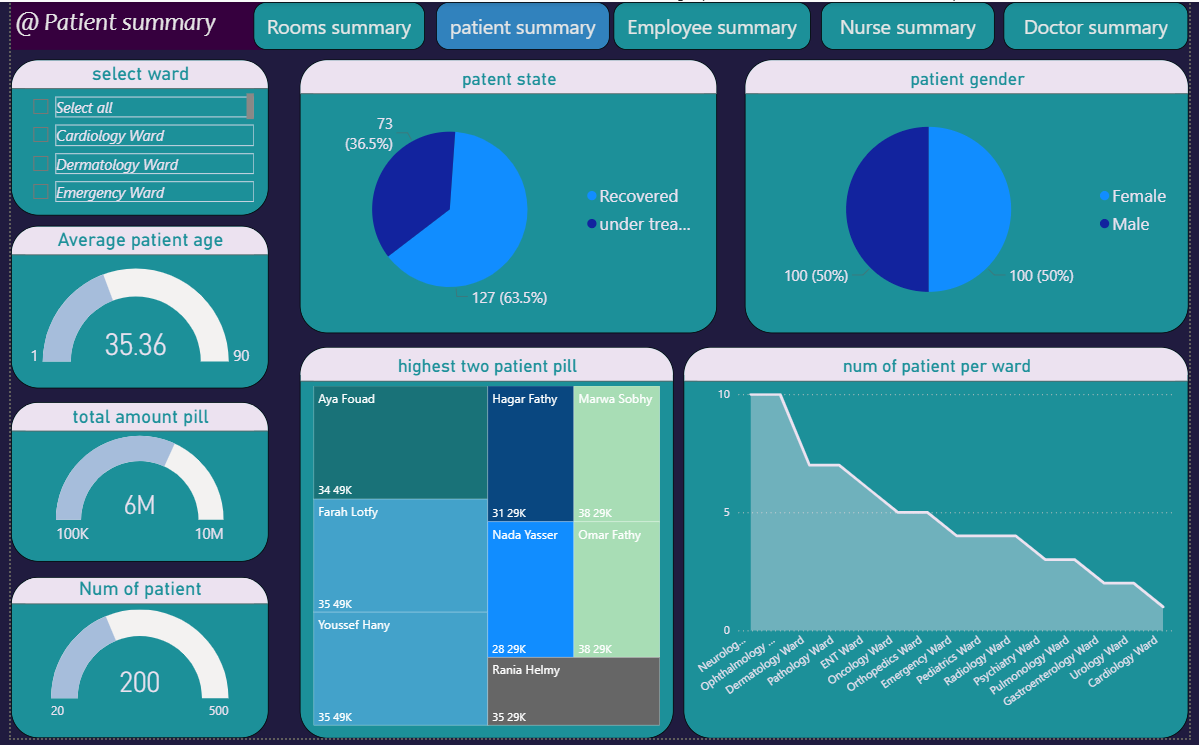

Layout of this report page (visuals, bound fields, positions):
{"tool":"powerbi","page":{"name":"patient ","canvas":[1280,800],"ordinal":4},"visuals":[{"type":"gauge","title":"Num of patient ","fields":{"Y":["CountNonNull(Patient.Pat_ID)"]},"box":[0,625,279.9,175.3],"z":0},{"type":"gauge","title":"total amount pill","fields":{"Y":["Sum(Patient.pill_Amount)"]},"box":[0,434.8,279.9,173.9],"z":1000},{"type":"gauge","title":"Average  patient age","fields":{"Y":["Avg(Patient.patient_age)"]},"box":[0,243.2,279.9,176.6],"z":2000},{"type":"stackedAreaChart","title":"num of patient per ward ","fields":{"Category":["Ward.Name"],"Y":["CountNonNull(Patient.Pat_ID)"]},"box":[731,375,548.9,425.3],"z":3000},{"type":"pieChart","title":"patient gender ","fields":{"Y":["CountNonNull(Patient.Pat_ID)"],"Category":["Patient.Six"]},"box":[797.6,62.5,482.3,297.6],"z":4000},{"type":"pieChart","title":"patent state ","fields":{"Y":["CountNonNull(Patient.Pat_ID)"],"Category":["Patient.State"]},"box":[313.9,62.5,453.8,297.6],"z":5000},{"type":"treemap","title":"highest two patient pill","fields":{"Values":["Sum(Patient.pill_Amount)"],"Group":["Patient.name"],"Details":["Patient.patient_age"]},"box":[313.9,375,406.3,425.3],"z":6000},{"type":"slicer","title":"select ward","fields":{"Values":["Ward.Name"]},"box":[0,62.5,279.9,169.8],"z":7000},{"type":"textbox","box":[0,0,298.9,51.6],"z":8000},{"type":"actionButton","box":[1078.8,0,201.1,51.6],"z":9000},{"type":"actionButton","box":[880.4,0,188.9,51.6],"z":10000},{"type":"actionButton","box":[654.9,0,214.7,51.6],"z":11000},{"type":"actionButton","box":[263.6,0,186.1,51.6],"z":12000},{"type":"actionButton","box":[462,0,188.9,51.6],"z":13000}]}

Visuals, with their boxes in screenshot pixels (x1, y1, x2, y2), scaled from the page's 1280x800 canvas onto the 1199x745 screenshot:
"Num of patient " gauge: Rect(0, 582, 262, 744)
"total amount pill" gauge: Rect(0, 405, 262, 567)
"Average  patient age" gauge: Rect(0, 226, 262, 391)
"num of patient per ward " stackedAreaChart: Rect(685, 349, 1198, 744)
"patient gender " pieChart: Rect(747, 58, 1198, 335)
"patent state " pieChart: Rect(294, 58, 719, 335)
"highest two patient pill" treemap: Rect(294, 349, 675, 744)
"select ward" slicer: Rect(0, 58, 262, 216)
textbox: Rect(0, 0, 280, 48)
actionButton: Rect(1011, 0, 1198, 48)
actionButton: Rect(825, 0, 1002, 48)
actionButton: Rect(613, 0, 815, 48)
actionButton: Rect(247, 0, 421, 48)
actionButton: Rect(433, 0, 610, 48)
